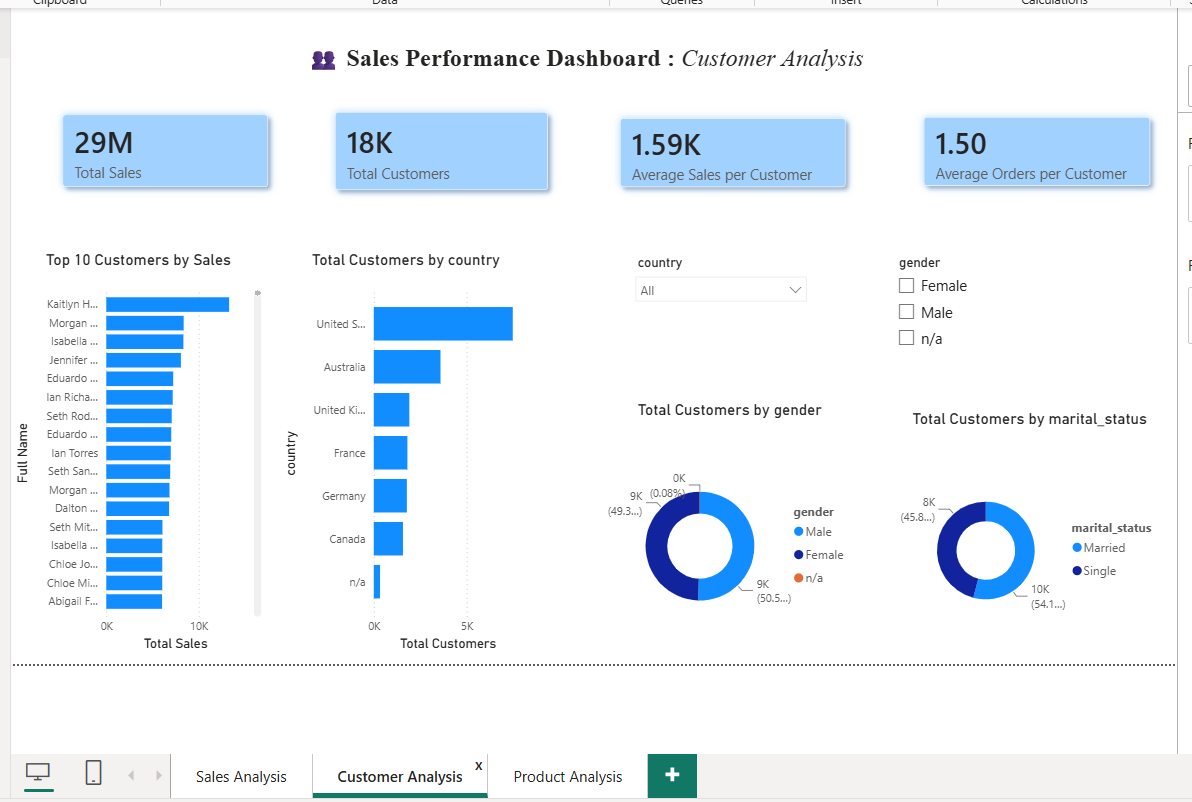

This screenshot's page, from the dashboard's own definition file:
{"tool":"powerbi","page":{"name":"Customer Analysis","canvas":[1280,720],"ordinal":1},"visuals":[{"type":"clusteredBarChart","title":"Top 10 Customers by Sales","fields":{"Y":["Measure Table.Total Sales"],"Category":["gold dim_customers.Full Name"]},"box":[0,266.2,279.9,444.6],"z":0},{"type":"clusteredBarChart","fields":{"Category":["gold dim_customers.country"],"Y":["Measure Table.Total Customers"]},"box":[293.7,266.2,279.9,444.6],"z":1000},{"type":"donutChart","fields":{"Category":["gold dim_customers.gender"],"Y":["Measure Table.Total Customers"]},"box":[649.1,430.9,279.9,289.5],"z":2000},{"type":"slicer","fields":{"Values":["gold dim_customers.country"]},"box":[675.1,266.2,208.6,81],"z":3000},{"type":"donutChart","fields":{"Category":["gold dim_customers.marital_status"],"Y":["Measure Table.Total Customers"]},"box":[971.5,440.5,293.7,279.9],"z":4000},{"type":"textbox","box":[27.4,30.2,1206.2,75.5],"z":5000},{"type":"slicer","fields":{"Values":["gold dim_customers.gender"]},"box":[961.9,266.2,167.4,134.5],"z":6000},{"type":"cardVisual","fields":{"Data":["Measure Table.Average Orders per Customer"]},"box":[972.9,90.6,307.4,134.5],"z":6001},{"type":"cardVisual","fields":{"Data":["Measure Table.Average Sales per Customer"]},"box":[639.5,91.9,306,134.5],"z":6002},{"type":"cardVisual","fields":{"Data":["Measure Table.Total Sales"]},"box":[27.4,87.8,284,138.6],"z":6003},{"type":"cardVisual","fields":{"Data":["Measure Table.Total Customers"]},"box":[326.6,85.1,292.3,144.1],"z":6004}]}

Visuals, with their boxes on the page's 1280x720 design canvas (x1, y1, x2, y2). These are canvas units, not pixel positions in the 1192x802 screenshot, which may show the page scaled, cropped or inside an application window:
"Top 10 Customers by Sales" clusteredBarChart: pyautogui.locateOnScreen(0, 266, 280, 711)
clusteredBarChart - gold dim_customers.country x Measure Table.Total Customers: pyautogui.locateOnScreen(294, 266, 574, 711)
donutChart - gold dim_customers.gender x Measure Table.Total Customers: pyautogui.locateOnScreen(649, 431, 929, 720)
slicer - gold dim_customers.country: pyautogui.locateOnScreen(675, 266, 884, 347)
donutChart - gold dim_customers.marital_status x Measure Table.Total Customers: pyautogui.locateOnScreen(972, 440, 1265, 720)
textbox: pyautogui.locateOnScreen(27, 30, 1234, 106)
slicer - gold dim_customers.gender: pyautogui.locateOnScreen(962, 266, 1129, 401)
cardVisual - Measure Table.Average Orders per Customer: pyautogui.locateOnScreen(973, 91, 1280, 225)
cardVisual - Measure Table.Average Sales per Customer: pyautogui.locateOnScreen(640, 92, 946, 226)
cardVisual - Measure Table.Total Sales: pyautogui.locateOnScreen(27, 88, 311, 226)
cardVisual - Measure Table.Total Customers: pyautogui.locateOnScreen(327, 85, 619, 229)
